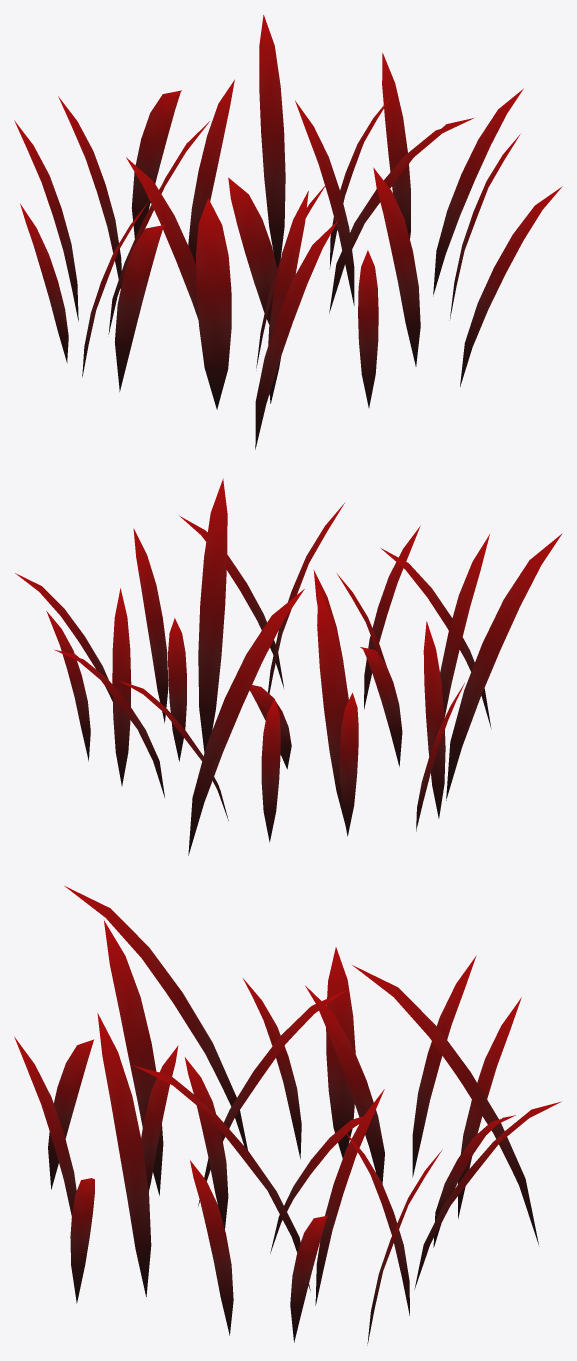
The model's file is Grass.fbx.
The picture shows the model from 3 angles, top to bottom: view 1: azimuth 30°, elevation 25°; view 2: azimuth 150°, elevation 25°; view 3: azimuth 270°, elevation 25°; orthographic projection. The views are drawn at different scales.
Visible parts, largest first — view 1: Grass; view 2: Grass; view 3: Grass.
Part boxes in pixels (box(x1,y1,x2,y2)): Grass: box(14, 15, 562, 449); Grass: box(15, 478, 562, 855); Grass: box(14, 886, 561, 1345).
Size of the model in its own units: 2.22 by 1.02 by 1.95.
